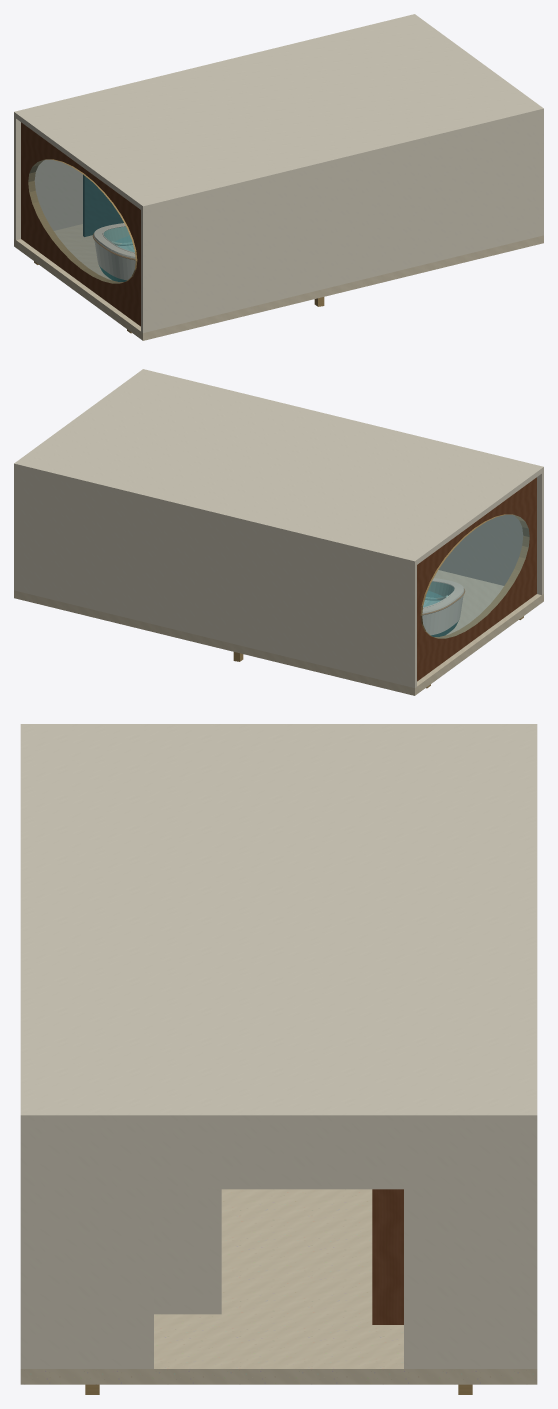
Rendered from NightGardenD15Specialty_470_r001.glb.
3 views of the same model, one above another, from view 1: azimuth 30°, elevation 25°; view 2: azimuth 150°, elevation 25°; view 3: azimuth 270°, elevation 25° (orthographic). The views are drawn at different scales.
Parts seen in each view (by area): view 1: NG470_Ceiling, NG470_SouthSide, NG470_OvalAtriumGlass, NG470_RoomFloor, NG470_OvalWindowReveal, NG470_NorthSide, NG470_ReservedRestSupport__Hollow continuous basin shell wit, NG470_WetPrivacyBlade, NG470_OvalDepthReturn; view 2: NG470_Ceiling, NG470_NorthSide, NG470_OvalAtriumGlass, NG470_RoomFloor, NG470_OvalWindowReveal, NG470_SouthSide, NG470_ReservedRestSupport__Hollow continuous basin shell wit, NG470_OvalDepthReturn; view 3: NG470_Ceiling, NG470_RoomFloor, NG470_EntryShoulderSouth, NG470_EntryShoulderNorth, NG470_EntryHeader, NG470_WashEntrySide, NG470_EntryPrivacyDogleg, NG470_NorthSide, NG470_SouthSide.
Part boxes in pixels (x1,y1,x2,y2): NG470_Ceiling: (14, 14, 543, 211); NG470_SouthSide: (141, 114, 543, 332); NG470_OvalAtriumGlass: (28, 160, 135, 283); NG470_RoomFloor: (14, 224, 543, 340); NG470_OvalWindowReveal: (21, 122, 140, 326); NG470_NorthSide: (14, 117, 82, 239); NG470_ReservedRestSupport__Hollow continuous basin shell wit: (93, 223, 135, 281); NG470_WetPrivacyBlade: (83, 174, 123, 236); NG470_OvalDepthReturn: (28, 159, 137, 283); NG470_Ceiling: (14, 369, 543, 566); NG470_NorthSide: (14, 469, 416, 687); NG470_OvalAtriumGlass: (422, 515, 529, 638); NG470_RoomFloor: (14, 570, 543, 695); NG470_OvalWindowReveal: (417, 477, 536, 681); NG470_SouthSide: (438, 472, 543, 594); NG470_ReservedRestSupport__Hollow continuous basin shell wit: (422, 578, 464, 636); NG470_OvalDepthReturn: (420, 514, 529, 638); NG470_Ceiling: (20, 724, 537, 1125); NG470_RoomFloor: (20, 1189, 537, 1384); NG470_EntryShoulderSouth: (29, 1125, 153, 1368); NG470_EntryShoulderNorth: (404, 1125, 528, 1368); NG470_EntryHeader: (150, 1125, 407, 1189); NG470_WashEntrySide: (154, 1189, 221, 1314); NG470_EntryPrivacyDogleg: (372, 1189, 403, 1324); NG470_NorthSide: (528, 1125, 537, 1368); NG470_SouthSide: (20, 1125, 29, 1368).
Size of the model in its own units: 12.9 by 4.91 by 7.2.
61 materials, 43 textured.
